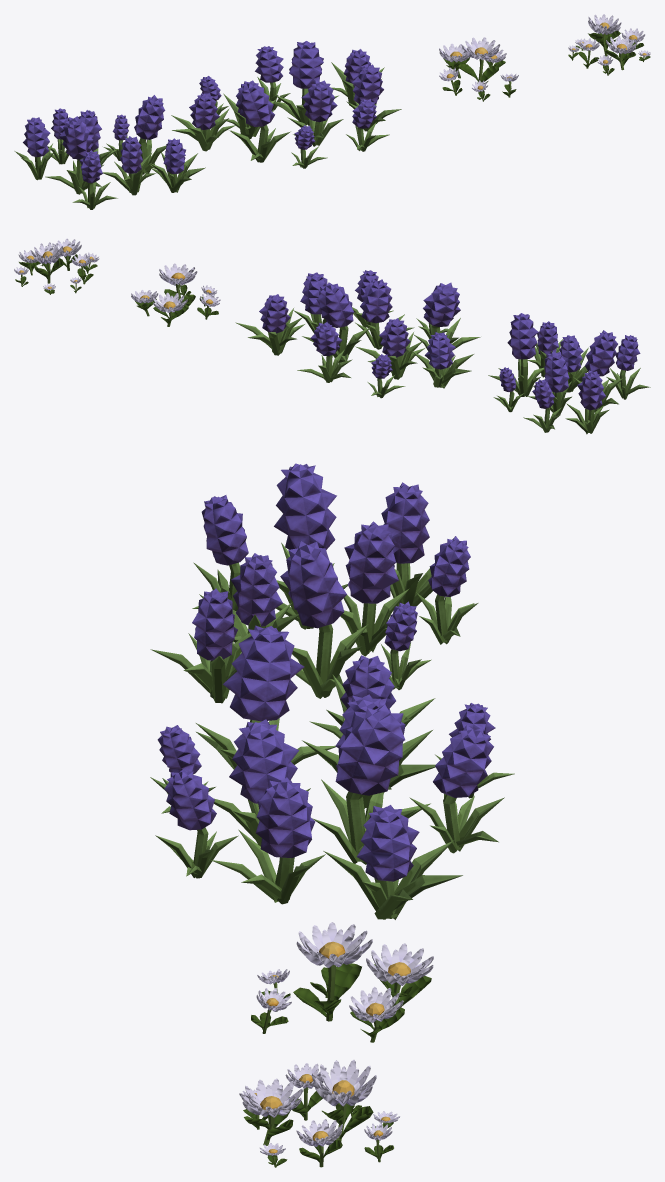
Rendered from Flowers.glb.
3 views of the same model, one above another, from view 1: azimuth 30°, elevation 25°; view 2: azimuth 150°, elevation 25°; view 3: azimuth 270°, elevation 25° (orthographic). The views are drawn at different scales.
Visible parts, largest first — view 1: mesh_flower_purple.002, mesh_flower_purple.003, mesh_flower_white.008, mesh_flower_white.002; view 2: mesh_flower_purple.002, mesh_flower_purple.003, mesh_flower_white.008, mesh_flower_white.002; view 3: mesh_flower_purple.002, mesh_flower_purple.003, mesh_flower_white.008, mesh_flower_white.002.
Boxes of the visible parts, x1,y1,x2,y2 form: mesh_flower_purple.002: (171, 41, 401, 168); mesh_flower_purple.003: (14, 95, 205, 209); mesh_flower_white.008: (439, 37, 518, 101); mesh_flower_white.002: (568, 14, 650, 75); mesh_flower_purple.002: (235, 270, 480, 398); mesh_flower_purple.003: (488, 313, 650, 434); mesh_flower_white.008: (131, 263, 220, 326); mesh_flower_white.002: (14, 238, 99, 294); mesh_flower_purple.002: (150, 625, 514, 919); mesh_flower_purple.003: (150, 463, 478, 703); mesh_flower_white.008: (251, 922, 433, 1042); mesh_flower_white.002: (239, 1060, 400, 1167).
Bounding box in the file's own units: 4.81 × 0.6061 × 1.27.
2 materials, 1 textured.
